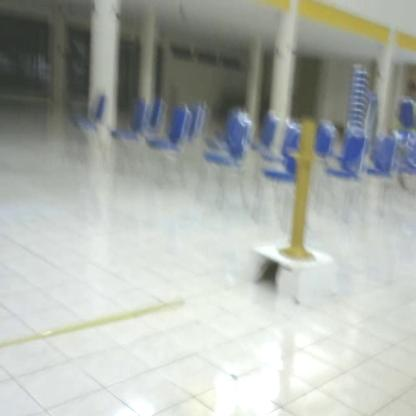pole: (276, 108, 326, 268)
